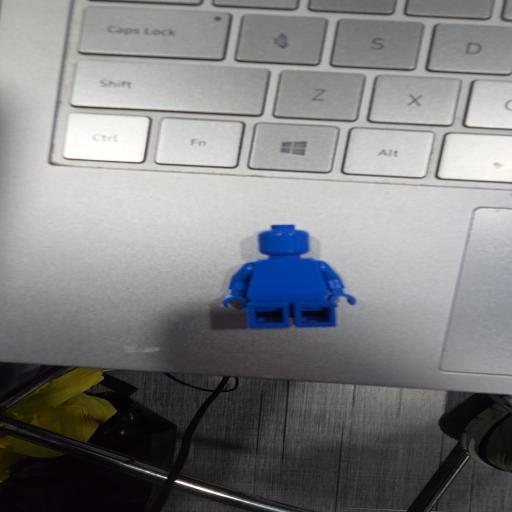Blue: (222, 225, 356, 328)
